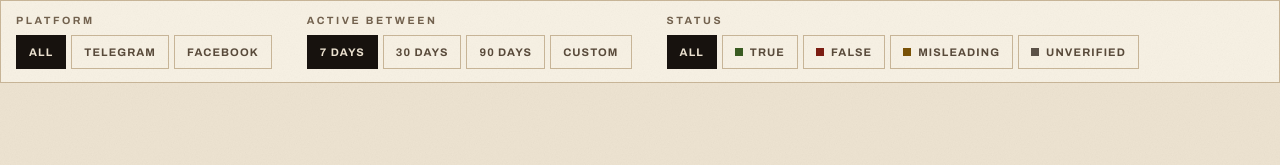
FilterBar › date inputs appear only for Custom, prefilled with the range on screen
Expected: the field labelled "From" is not shown
Click the button "Custom" at (591, 52), box [550, 35, 632, 69]
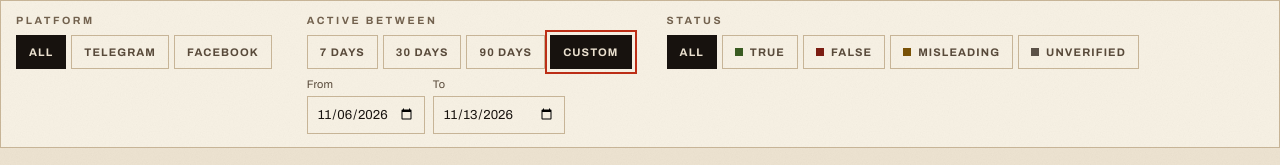
Expected: the date field labelled "From" holds "2026-11-06", [307, 96, 425, 134]
Expected: the date field labelled "To" holds "2026-11-13", [433, 96, 565, 134]
Click the button "30 days" at (422, 52), box [383, 35, 461, 69]
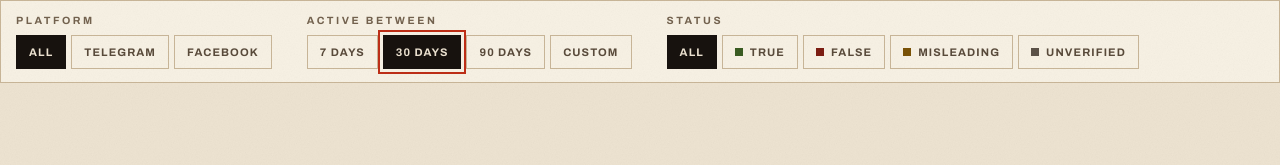
Expected: the text labelled "From" is gone
